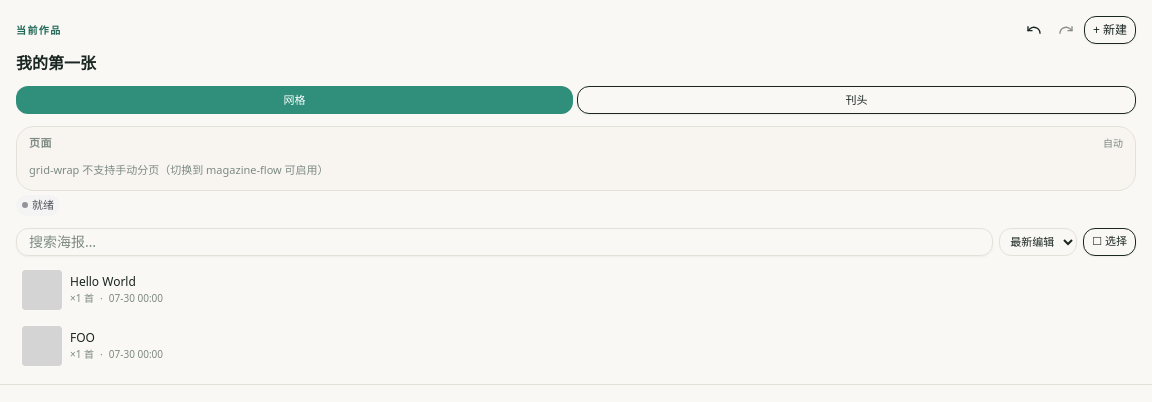
Test: PostersSidebar - 搜索过滤 › 大小写不敏感（中文不受影响，但 latin 字符小写也命中）
Type "hello" into the field with test id "poster-search-input" at x=505, y=242, box [16,228,993,256]
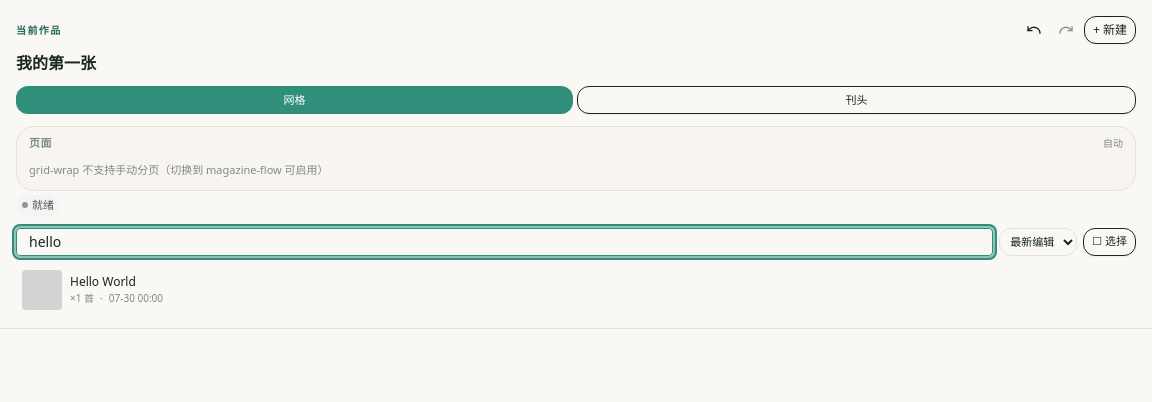
Expected: the text "Hello World" is shown, [70,273,136,290]
Result: the button "FOO" is gone
